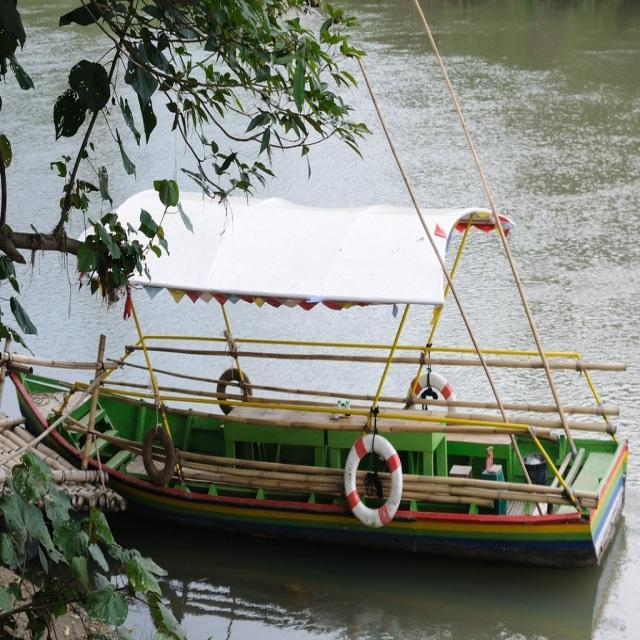boat: (6, 346, 619, 566)
